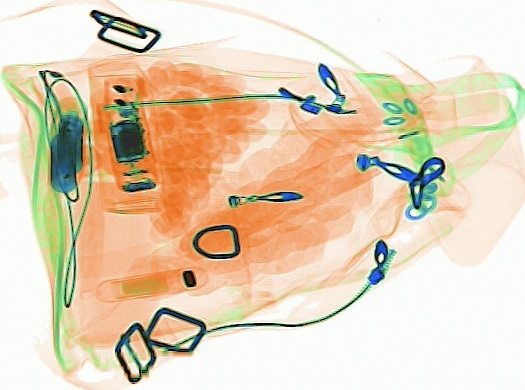powerbank: (45, 94, 89, 195)
